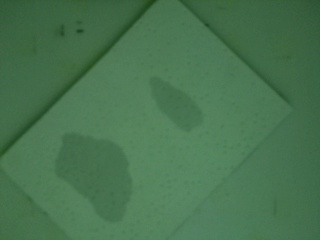Water_detected: (68, 145, 134, 212), (156, 81, 202, 130)
